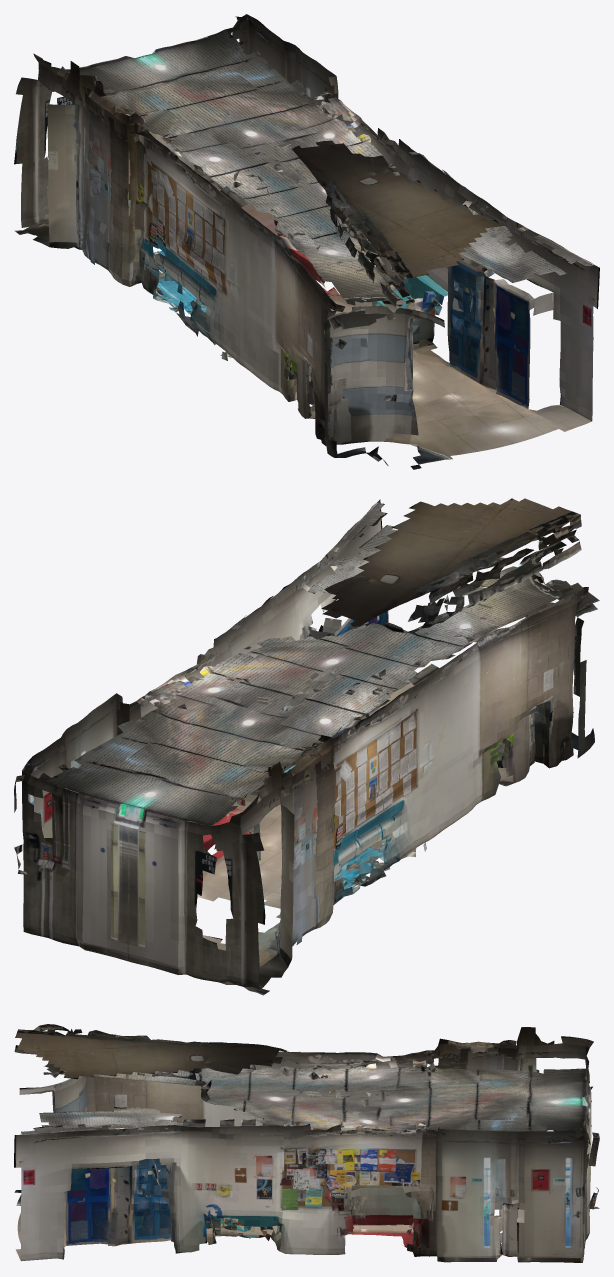
The model's file is 1_corridor_1-IM.fbx.
The picture shows the model from 3 angles, top to bottom: view 1: azimuth 30°, elevation 25°; view 2: azimuth 150°, elevation 25°; view 3: azimuth 270°, elevation 25°; orthographic projection. The views are drawn at different scales.
Visible parts, largest first — view 1: 1_corridor_1-IM; view 2: 1_corridor_1-IM; view 3: 1_corridor_1-IM.
Part boxes in pixels (x1,y1,x2,y2): 1_corridor_1-IM: [14, 14, 599, 469]; 1_corridor_1-IM: [14, 498, 599, 995]; 1_corridor_1-IM: [14, 1024, 599, 1262].
Bounding box in the file's own units: 410 × 337 × 1062.
1 material, 1 textured.
